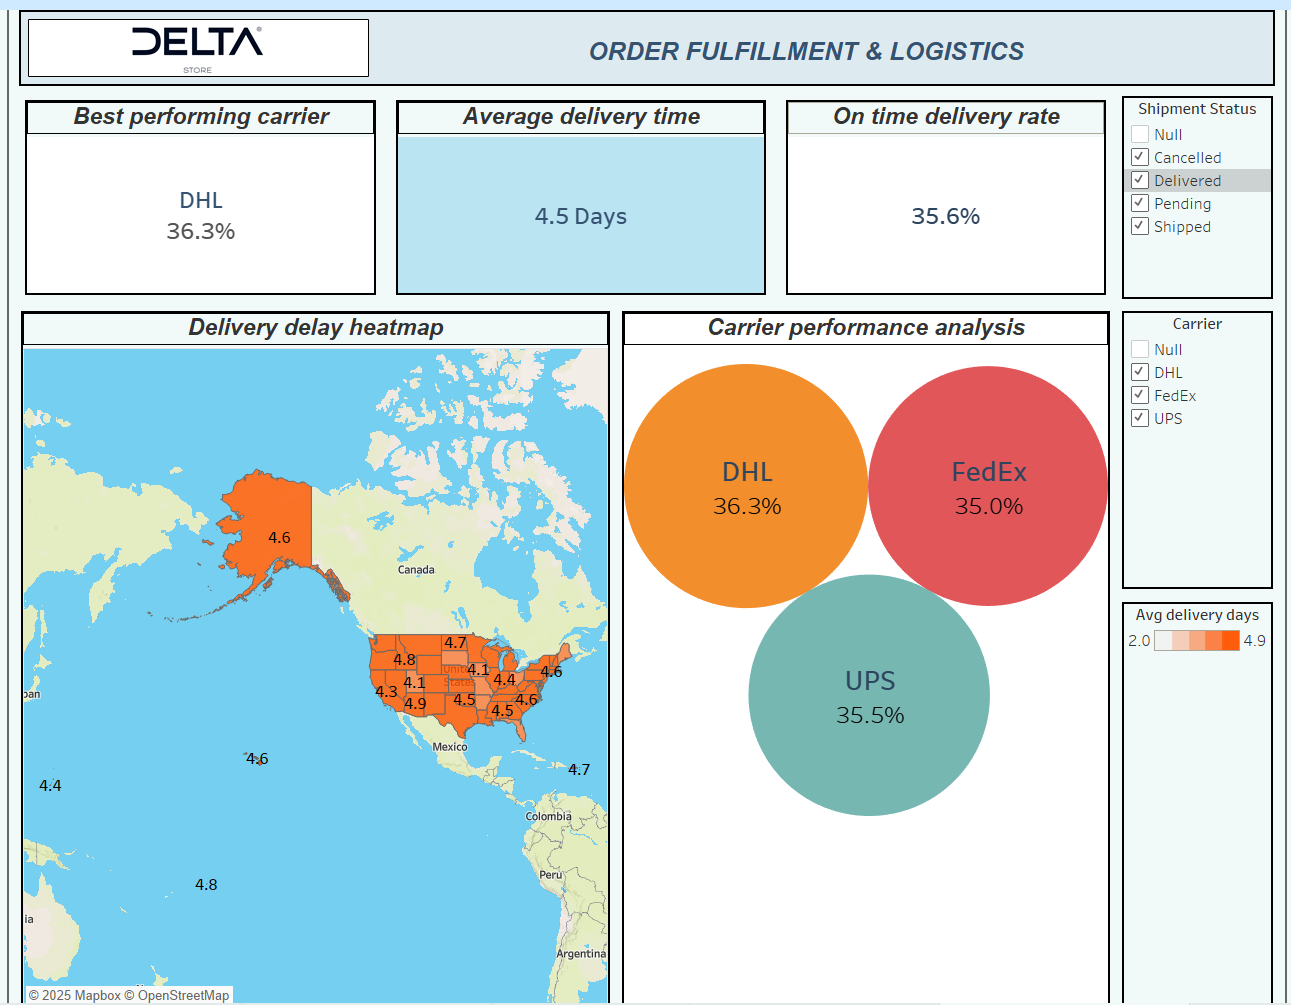

The dashboard page shown, as its layout file describes it:
{"tool":"tableau","page":{"name":"ORDER FULFILLMENT & LOGISTICS","canvas":[1000,1000],"units":"permille","ordinal":1},"visuals":[{"type":"title","box":[6.2,7.8,987.5,82]},{"type":"image","param":"C:/Users/Iheb/Desktop/Cours/Projects/Delta_Store_data/delta_store_photo.jpg","box":[16.4,20.5,266.4,56.6]},{"type":"worksheet","title":"Best performing carrier","mark":"Automatic","box":[6.2,89.8,289.8,210.3]},{"type":"worksheet","title":"Average delivery time","mark":"Automatic","box":[296.1,89.8,304.7,210.3]},{"type":"worksheet","title":"On time delivery rate","mark":"Automatic","box":[600.8,89.8,265.6,210.3]},{"type":"filter","title":"Carrier performance analysis","param":"[federated.0v9k3h11ha49oy16uwvx20vguj4d].[none:shipment_status:nk]","box":[866.4,89.8,127.3,210.3]},{"type":"worksheet","title":"Delivery delay heatmap","mark":"Multipolygon","box":[6.2,300.1,469.5,692.1]},{"type":"worksheet","title":"Carrier performance analysis","mark":"Circle","box":[475.8,300.1,390.6,692.1]},{"type":"filter","title":"Carrier performance analysis","param":"[federated.0v9k3h11ha49oy16uwvx20vguj4d].[none:carrier:nk]","box":[866.4,300.1,127.3,283.5]},{"type":"legend","title":"Delivery delay heatmap","param":"[federated.0v9k3h11ha49oy16uwvx20vguj4d].[avg:days_between_shipement_delivery:qk","box":[866.4,583.6,127.3,408.6]}]}

Visuals, with their boxes on the dashboard's canvas, which has no fixed pixel size, in thousandths of its width and height (x1, y1, x2, y2). These are canvas units, not pixel positions in the 1291x1005 screenshot, which may show the page scaled, cropped or inside an application window:
title: [6,8,994,90]
image: [16,20,283,77]
"Best performing carrier" worksheet: [6,90,296,300]
"Average delivery time" worksheet: [296,90,601,300]
"On time delivery rate" worksheet: [601,90,866,300]
"Carrier performance analysis" filter: [866,90,994,300]
"Delivery delay heatmap" worksheet (Multipolygon marks): [6,300,476,992]
"Carrier performance analysis" worksheet (Circle marks): [476,300,866,992]
"Carrier performance analysis" filter: [866,300,994,584]
"Delivery delay heatmap" legend: [866,584,994,992]
